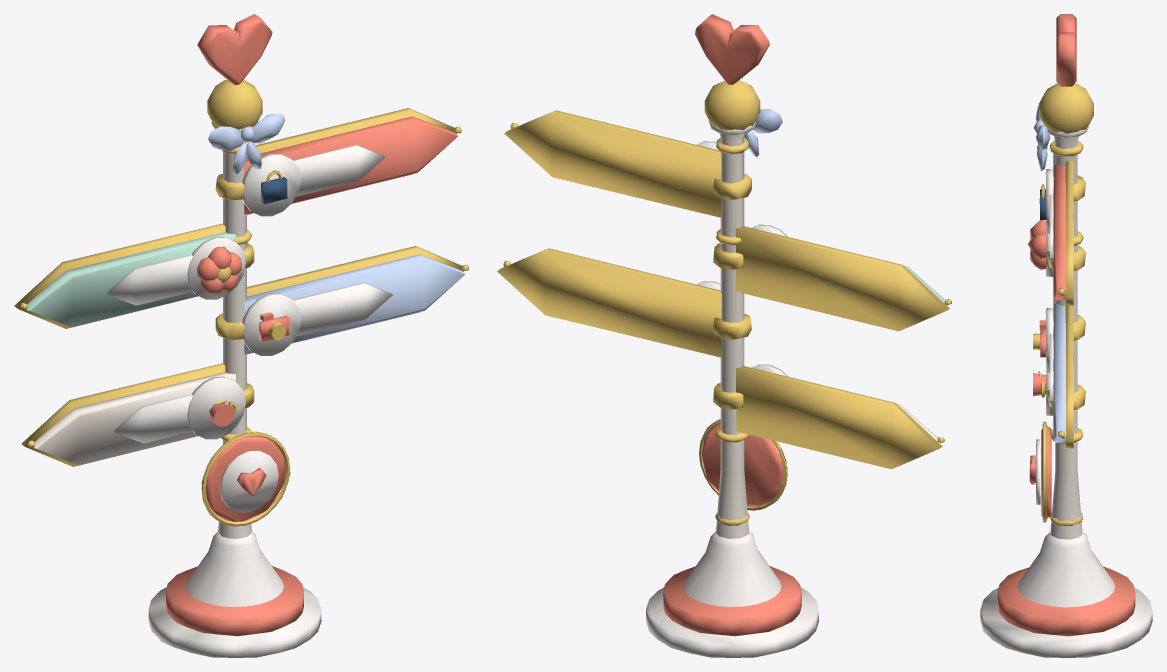
Rendered from lite_wayfinding_post.glb.
3 renders of one model, left to right at view 1: azimuth 30°, elevation 25°; view 2: azimuth 150°, elevation 25°; view 3: azimuth 270°, elevation 25°, orthographic.
Parts seen in each view (by area): view 1: wayfinding_post; view 2: wayfinding_post; view 3: wayfinding_post.
Part boxes in pixels (left/top/right/bottom): wayfinding_post: left=14, top=14, right=468, bottom=657; wayfinding_post: left=497, top=14, right=951, bottom=657; wayfinding_post: left=980, top=14, right=1152, bottom=657.
Size of the model in its own units: 3.1 by 3.96 by 1.03.
